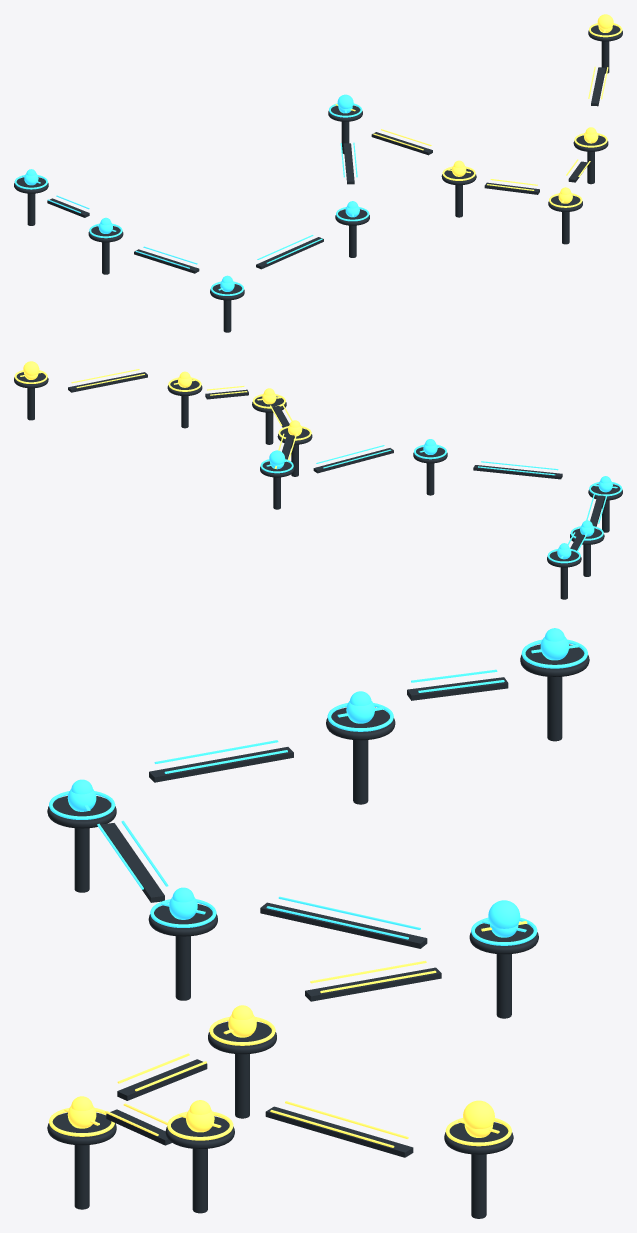
The picture shows the model from 3 angles, top to bottom: view 1: azimuth 30°, elevation 25°; view 2: azimuth 150°, elevation 25°; view 3: azimuth 270°, elevation 25°; orthographic projection. The views are drawn at different scales.
Parts seen in each view (by area): view 1: AI_PM_route_bridge_blue_bridge_body_02; view 2: AI_PM_route_bridge_blue_bridge_body_02, AI_PM_route_bridge_blue_bridge_body_03, AI_PM_route_bridge_orange_bridge_body_03, AI_PM_route_blue_socket_00_socket_pad, AI_PM_route_blue_socket_03_socket_pad, AI_PM_route_blue_socket_04_socket_pad, AI_PM_route_orange_socket_09_socket_pad; view 3: AI_PM_route_bridge_blue_bridge_body_03, AI_PM_route_bridge_orange_bridge_body_03, AI_PM_route_bridge_blue_bridge_body_01, AI_PM_route_bridge_orange_bridge_body_00, AI_PM_route_bridge_blue_bridge_body_02, AI_PM_route_blue_socket_02_socket_pad, AI_PM_route_orange_socket_06_socket_pad, AI_PM_route_orange_socket_08_socket_pad, AI_PM_route_orange_socket_07_socket_pad, AI_PM_route_orange_socket_09_socket_pad, AI_PM_route_blue_socket_03_socket_pad, AI_PM_route_blue_socket_01_socket_pad (+13 smaller).
Part boxes in pixels (box(x1,y1,x2,y2)): AI_PM_route_bridge_blue_bridge_body_02: box(256, 237, 323, 269); AI_PM_route_bridge_blue_bridge_body_02: box(473, 465, 562, 479); AI_PM_route_bridge_blue_bridge_body_03: box(313, 448, 393, 473); AI_PM_route_bridge_orange_bridge_body_03: box(68, 372, 147, 392); AI_PM_route_blue_socket_00_socket_pad: box(547, 551, 581, 567); AI_PM_route_blue_socket_03_socket_pad: box(413, 447, 447, 463); AI_PM_route_blue_socket_04_socket_pad: box(260, 461, 294, 477); AI_PM_route_orange_socket_09_socket_pad: box(14, 372, 48, 388); AI_PM_route_bridge_blue_bridge_body_03: box(260, 902, 427, 948); AI_PM_route_bridge_orange_bridge_body_03: box(265, 1106, 413, 1157); AI_PM_route_bridge_blue_bridge_body_01: box(149, 747, 293, 782); AI_PM_route_bridge_orange_bridge_body_00: box(305, 967, 441, 1001); AI_PM_route_bridge_blue_bridge_body_02: box(100, 823, 164, 902); AI_PM_route_blue_socket_02_socket_pad: box(47, 796, 116, 828); AI_PM_route_orange_socket_06_socket_pad: box(208, 1021, 276, 1054); AI_PM_route_orange_socket_08_socket_pad: box(165, 1116, 234, 1148); AI_PM_route_orange_socket_07_socket_pad: box(47, 1112, 116, 1145); AI_PM_route_orange_socket_09_socket_pad: box(444, 1122, 513, 1154); AI_PM_route_blue_socket_03_socket_pad: box(148, 904, 217, 936); AI_PM_route_blue_socket_01_socket_pad: box(326, 707, 395, 740).
Bounding box in the file's own units: 3.18 × 0.658 × 1.28.
